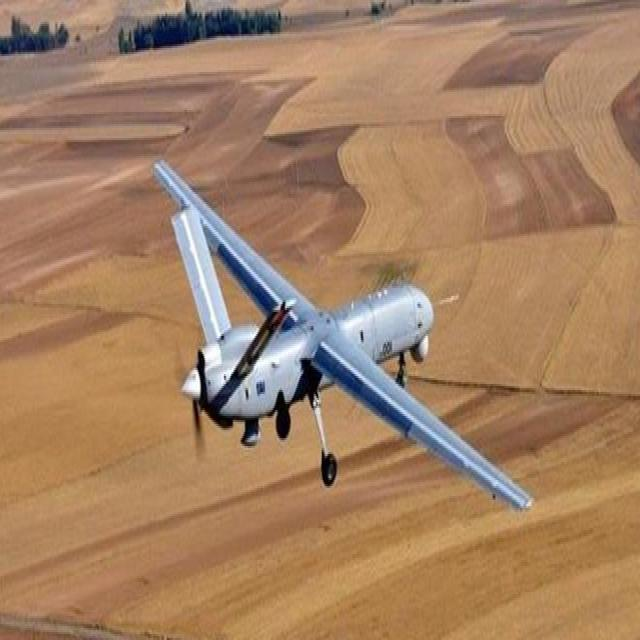iha: (151, 154, 534, 516)
